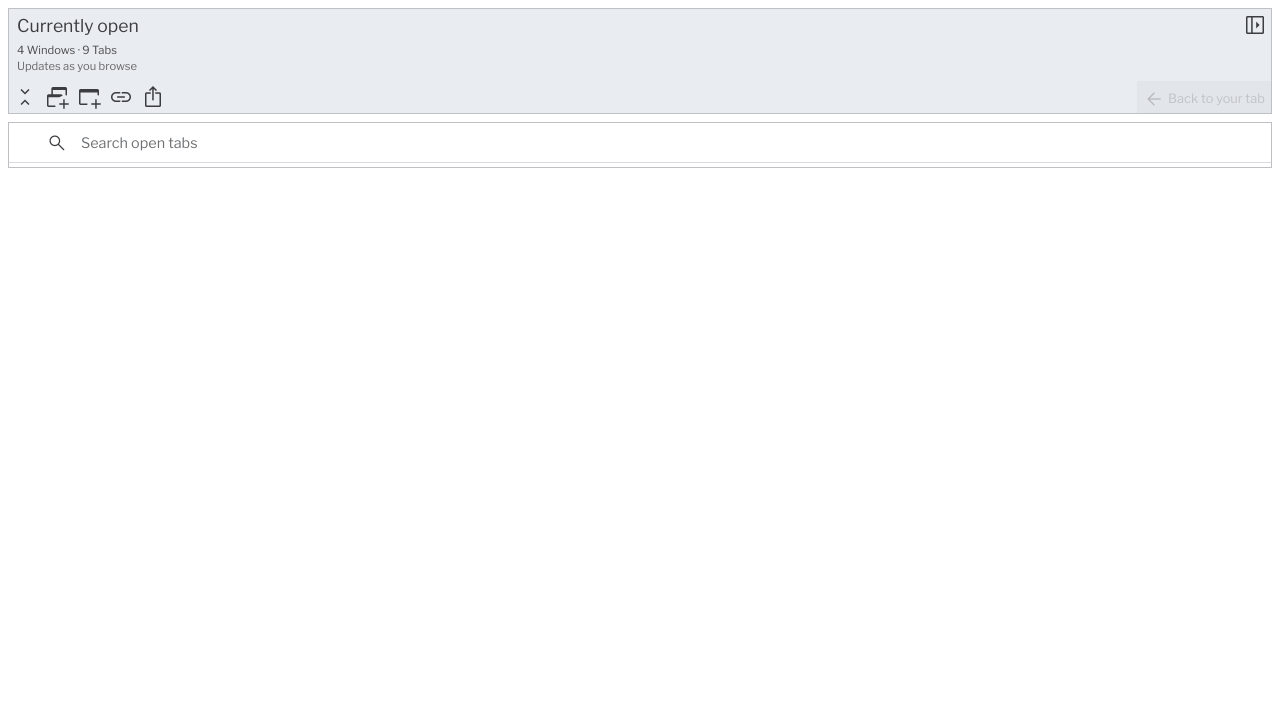
Scenario: Remove duplicate tabs in Currently open (KAN-867) › choosing it in the header closes every window's copies
The image size is (1280, 720).
Right-click the heading "Currently open": (78, 25) [17,14,139,36]
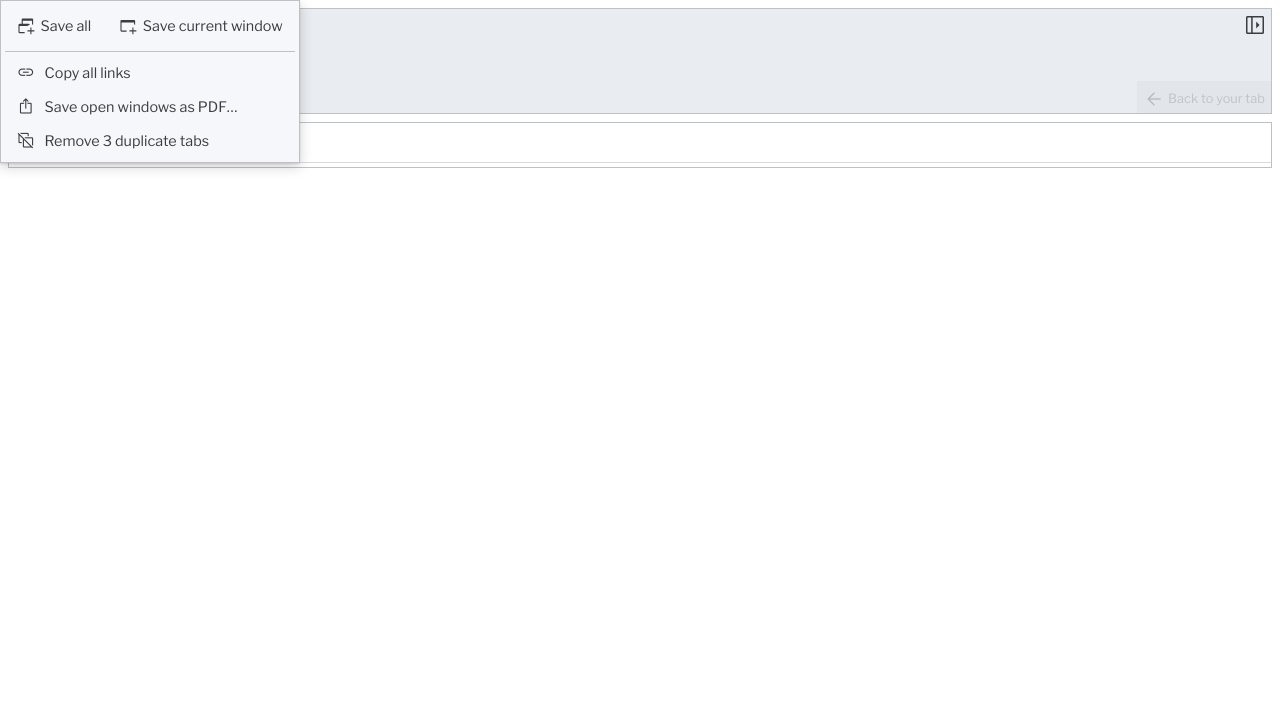
Click the menu item "Remove 3 duplicate tabs": (150, 141) [5,124,295,158]
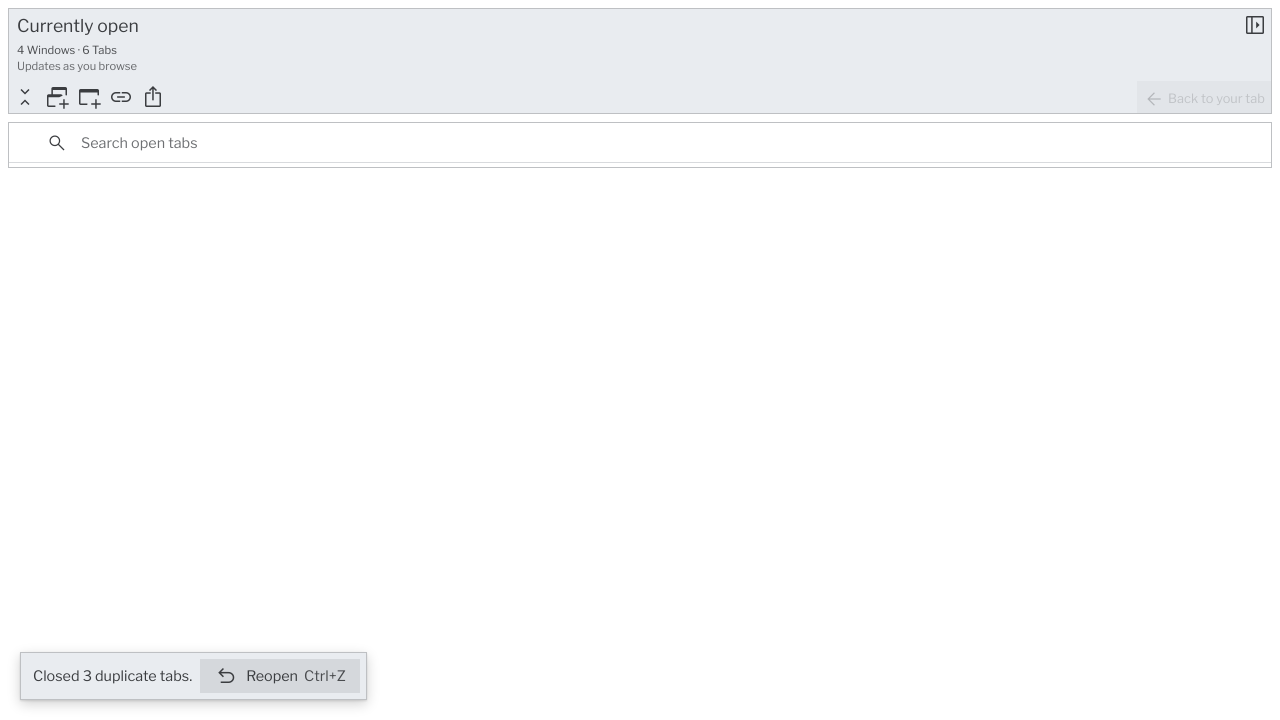
Check: the text "Closed 3 duplicate tabs." is shown, box [33,667,192,685]
